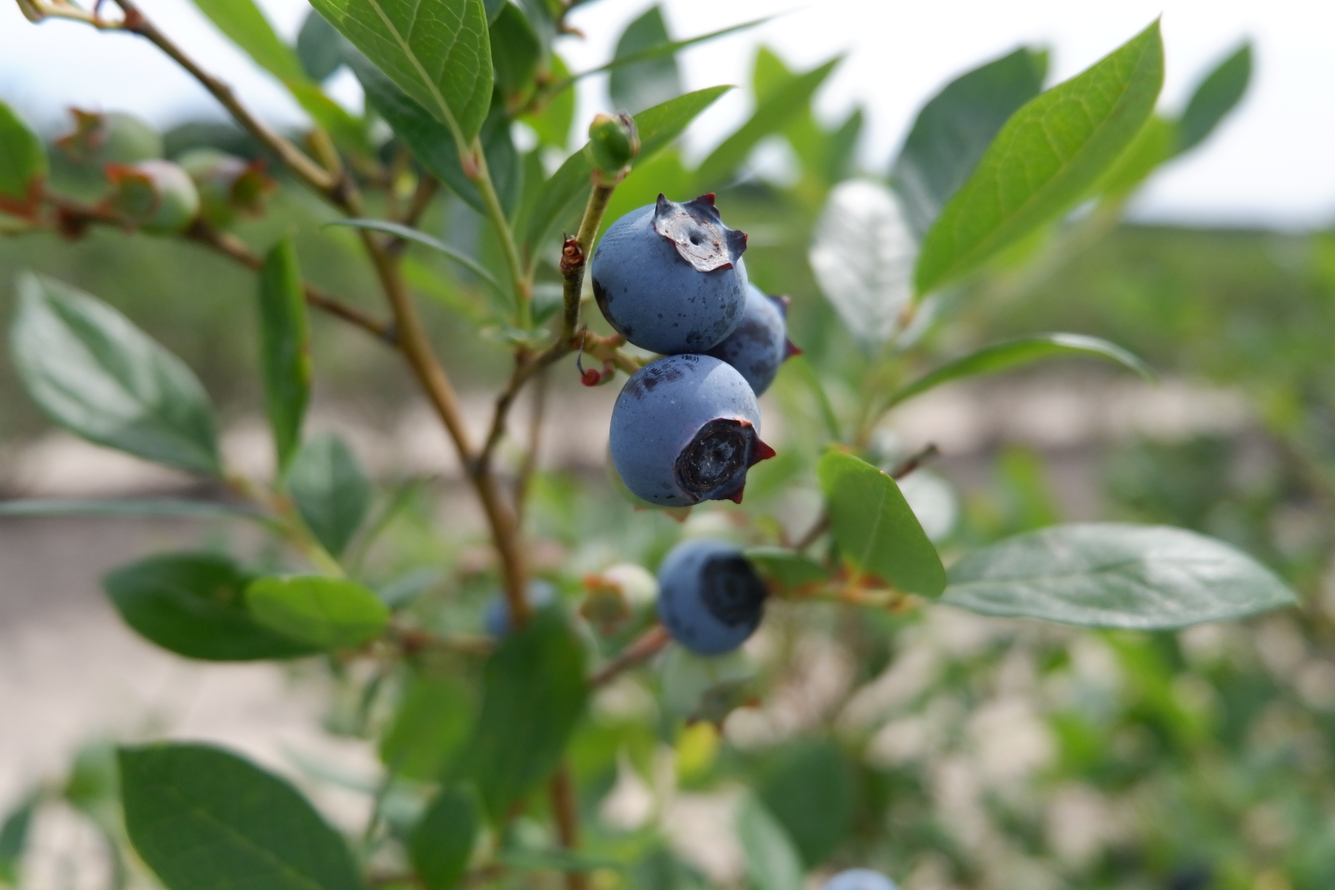Immature: (581, 564, 657, 649)
Mature: (611, 355, 772, 504), (592, 196, 746, 350), (658, 543, 765, 652), (697, 289, 794, 392)
